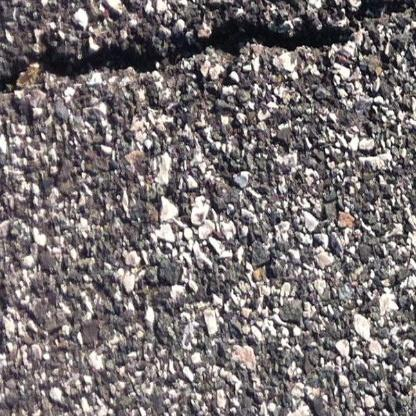Cracks: (0, 0, 409, 107)
